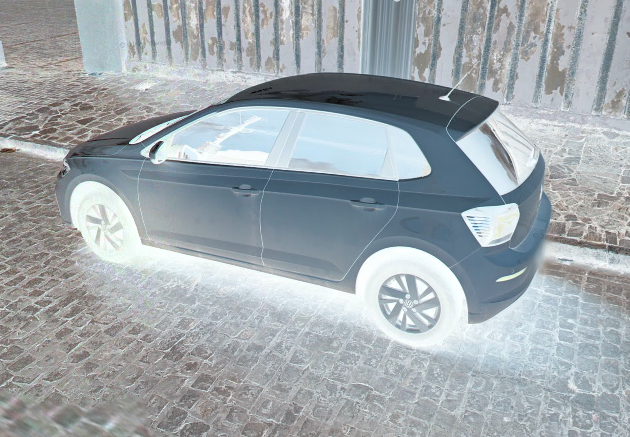car: (52, 57, 555, 355)
